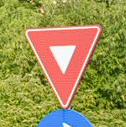cedeaza: (23, 24, 106, 111)
